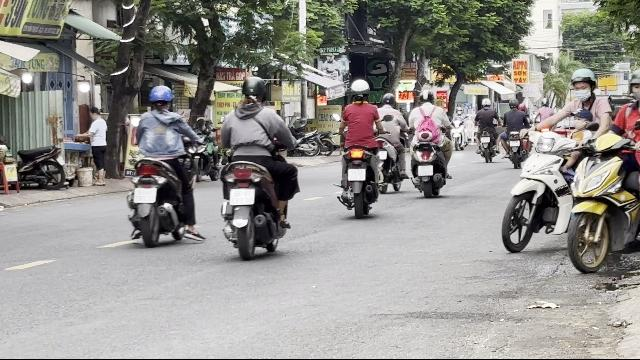helmet: (568, 68, 596, 102), (240, 76, 266, 105), (146, 84, 174, 109), (348, 78, 370, 102), (419, 88, 435, 104)
licenseplate: (230, 189, 254, 205), (133, 187, 155, 202), (348, 169, 364, 181), (418, 166, 434, 176)
motorcyclist: (504, 67, 614, 277), (214, 75, 300, 260), (124, 82, 200, 246), (333, 77, 382, 217), (603, 68, 639, 248), (407, 87, 453, 197)
nohelmet: (570, 107, 594, 129)
